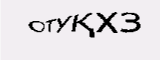В: (43, 27, 61, 47)
С: (31, 22, 42, 44)
Х: (79, 35, 102, 51)
Щ: (103, 25, 130, 48)
Э: (58, 29, 75, 50)
